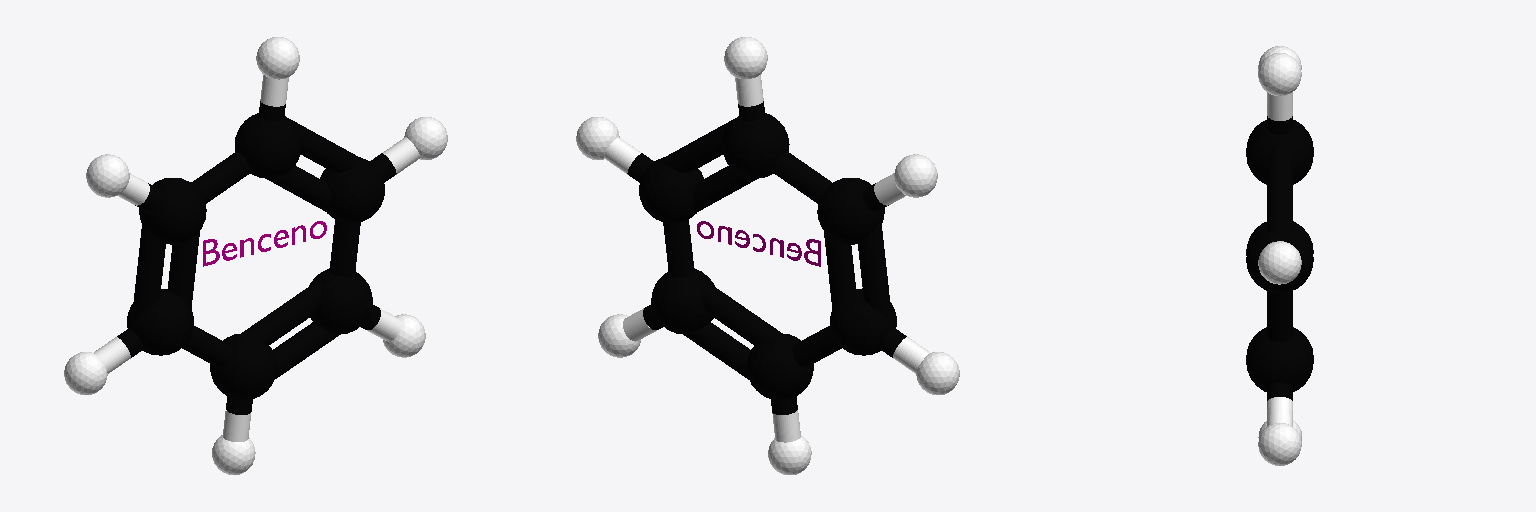
Rendered from benceno.obj.
The picture shows the model from 3 angles: view 1: azimuth 30°, elevation 25°; view 2: azimuth 150°, elevation 25°; view 3: azimuth 270°, elevation 25°; orthographic projection.
Visible parts, largest first — view 1: Shape_IndexedFaceSet.032_Shape_IndexedFaceSet.040, Shape_IndexedFaceSet.018_Shape_IndexedFaceSet.039, Text_Text.014; view 2: Shape_IndexedFaceSet.032_Shape_IndexedFaceSet.040, Shape_IndexedFaceSet.018_Shape_IndexedFaceSet.039, Text_Text.014; view 3: Shape_IndexedFaceSet.032_Shape_IndexedFaceSet.040, Shape_IndexedFaceSet.018_Shape_IndexedFaceSet.039.
Boxes of the visible parts, x1=… form: Shape_IndexedFaceSet.032_Shape_IndexedFaceSet.040: x1=117, y1=101, x2=396, y2=414; Shape_IndexedFaceSet.018_Shape_IndexedFaceSet.039: x1=64, y1=37, x2=447, y2=474; Text_Text.014: x1=203, y1=221, x2=326, y2=266; Shape_IndexedFaceSet.032_Shape_IndexedFaceSet.040: x1=627, y1=101, x2=906, y2=414; Shape_IndexedFaceSet.018_Shape_IndexedFaceSet.039: x1=576, y1=37, x2=959, y2=474; Text_Text.014: x1=697, y1=221, x2=820, y2=266; Shape_IndexedFaceSet.032_Shape_IndexedFaceSet.040: x1=1246, y1=116, x2=1313, y2=400; Shape_IndexedFaceSet.018_Shape_IndexedFaceSet.039: x1=1258, y1=46, x2=1301, y2=465.
Size of the model in its own units: 50.34 by 53.95 by 7.83.